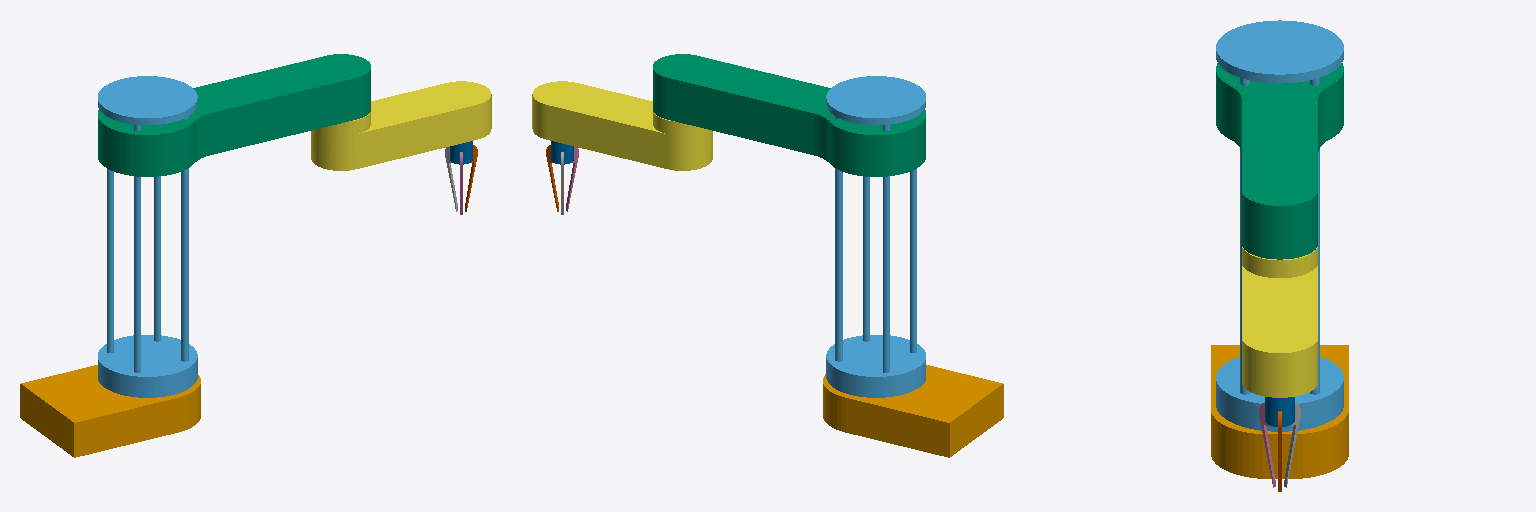
URDF robot description (bizon):
<?xml version="1.0" ?>
<!-- =================================================================================== -->
<!-- |    This document was autogenerated by xacro from src/bizon_description/urdf/bizon.urdf.xacro | -->
<!-- |    EDITING THIS FILE BY HAND IS NOT RECOMMENDED                                 | -->
<!-- =================================================================================== -->
<robot name="bizon">
  <!--xacro:include
    filename="$(find bizon_description)/urdf/bizon_mk1/bizon_system_interface.xacro" /-->
  <!--xacro:include filename="$(find bizon_description)/urdf/bizon_mk1/hand.xacro" /-->
  <link name="bizon2base_link">
    <visual>
      <origin rpy="1.57079632679 0.0 0.0" xyz="-0.150 0.070 0.0"/>
      <geometry>
        <mesh filename="package://bizon_description/meshes/base_link.stl" scale="0.001 0.001 0.001"/>
      </geometry>
    </visual>
    <collision>
      <origin rpy="1.57079632679 0.0 0.0" xyz="-0.150 0.070 0.0"/>
      <geometry>
        <mesh filename="package://bizon_description/meshes/base_link.stl" scale="0.001 0.001 0.001"/>
      </geometry>
    </collision>
    <inertial>
      <inertia ixx="0.00029" ixy="0.0" ixz="0.0" iyy="0.00029" iyz="0.0" izz="0.00052"/>
      <origin rpy="1.57079632679 0.0 0.0" xyz="-0.150 0.070 0.0"/>
      <mass value="1.00000"/>
    </inertial>
  </link>
  <link name="bizon2tower_link">
    <collision>
      <origin rpy="0.0 0.0 0.0" xyz="0.0 0.0 0.0"/>
      <geometry>
        <mesh filename="package://bizon_description/meshes/link1.stl" scale="0.001 0.001 0.001"/>
      </geometry>
    </collision>
    <inertial>
      <inertia ixx="0.02063" ixy="0.0" ixz="0.00004" iyy="0.02063" iyz="0.00001" izz="0.00118"/>
      <origin rpy="0.0 0.0 0.0" xyz="0.0 0.0 0.0"/>
      <mass value="1.00000"/>
    </inertial>
    <visual>
      <origin rpy="0.0 0.0 0.0" xyz="0.0 0.0 0.0"/>
      <geometry>
        <mesh filename="package://bizon_description/meshes/link1.stl" scale="0.001 0.001 0.001"/>
      </geometry>
    </visual>
  </link>
  <link name="bizon2arm1_link">
    <collision>
      <origin rpy="1.57079632679 0 1.57079632679" xyz="-0.060 -0.060 0.0"/>
      <geometry>
        <mesh filename="package://bizon_description/meshes/link2.stl" scale="0.001 0.001 0.001"/>
      </geometry>
    </collision>
    <inertial>
      <inertia ixx="0.00135" ixy="-0.00209" ixz="0.00002" iyy="0.00767" iyz="0.00001" izz="0.00877"/>
      <origin rpy="1.57079632679 0 1.57079632679" xyz="-0.060 -0.060 0.0"/>
      <mass value="1.00000"/>
    </inertial>
    <visual>
      <origin rpy="1.57079632679 0 1.57079632679" xyz="-0.060 -0.060 0.0"/>
      <geometry>
        <mesh filename="package://bizon_description/meshes/link2.stl" scale="0.001 0.001 0.001"/>
      </geometry>
    </visual>
  </link>
  <link name="bizon2arm2_link">
    <collision>
      <origin rpy="-1.57079632679 0.0 0.0" xyz="0.0 0.0 0.0"/>
      <geometry>
        <mesh filename="package://bizon_description/meshes/link3.stl" scale="0.001 0.001 0.001"/>
      </geometry>
    </collision>
    <inertial>
      <inertia ixx="0.00135" ixy="-0.00209" ixz="0.00002" iyy="0.00767" iyz="0.00001" izz="0.00877"/>
      <origin rpy="-1.57079632679 0.0 0.0" xyz="0.0 0.0 0.0"/>
      <mass value="1.00000"/>
    </inertial>
    <visual>
      <origin rpy="-1.57079632679 0.0 0.0" xyz="0.0 0.0 0.0"/>
      <geometry>
        <mesh filename="package://bizon_description/meshes/link3.stl" scale="0.001 0.001 0.001"/>
      </geometry>
    </visual>
  </link>
  <link name="bizon2gripper_base_link">
    <visual>
      <origin rpy="0 0.0 0.0" xyz="0.0 0.0 0.0"/>
      <geometry>
        <mesh filename="package://bizon_description/meshes/gripper_base.stl" scale="0.001 0.001 0.001"/>
      </geometry>
    </visual>
    <collision>
      <origin rpy="0 0.0 0.0" xyz="0.0 0.0 0.0"/>
      <geometry>
        <mesh filename="package://bizon_description/meshes/gripper_base.stl" scale="0.001 0.001 0.001"/>
      </geometry>
    </collision>
    <inertial>
      <inertia ixx="0.0001" ixy="0.0" ixz="0.0" iyy="0.0001" iyz="0.0" izz="0.0001"/>
      <origin rpy="0 0.0 0.0" xyz="0.0 0.0 0.0"/>
      <mass value="1.000"/>
    </inertial>
  </link>
  <link name="bizon2gripper_finger1_link">
    <visual>
      <origin rpy="0.0 0.0 0.0" xyz="0.0 0.0 0.0"/>
      <geometry>
        <mesh filename="package://bizon_description/meshes/gripper_finger_v2.stl" scale="0.001 0.0015 0.001"/>
      </geometry>
    </visual>
    <collision>
      <origin rpy="0.0 0.0 0.0" xyz="0.0 0.0 0.0"/>
      <geometry>
        <mesh filename="package://bizon_description/meshes/gripper_finger_v2.stl" scale="0.001 0.0015 0.001"/>
      </geometry>
    </collision>
    <inertial>
      <inertia ixx="0.00001" ixy="0.0" ixz="0.0" iyy="0.00001" iyz="0.0" izz="0.00001"/>
      <origin rpy="0.0 0.0 0.0" xyz="0.0 0.0 0.0"/>
      <mass value="0.100"/>
    </inertial>
  </link>
  <link name="bizon2gripper_finger2_link">
    <visual>
      <origin rpy="0.0 0.0 0.0" xyz="0.0 0.0 0.0"/>
      <geometry>
        <mesh filename="package://bizon_description/meshes/gripper_finger_v2.stl" scale="0.001 0.0015 0.001"/>
      </geometry>
    </visual>
    <collision>
      <origin rpy="0.0 0.0 0.0" xyz="0.0 0.0 0.0"/>
      <geometry>
        <mesh filename="package://bizon_description/meshes/gripper_finger_v2.stl" scale="0.001 0.0015 0.001"/>
      </geometry>
    </collision>
    <inertial>
      <inertia ixx="0.00001" ixy="0.0" ixz="0.0" iyy="0.00001" iyz="0.0" izz="0.00001"/>
      <origin rpy="0.0 0.0 0.0" xyz="0.0 0.0 0.0"/>
      <mass value="0.100"/>
    </inertial>
  </link>
  <link name="bizon2gripper_finger3_link">
    <visual>
      <origin rpy="0.0 0.0 0.0" xyz="0.0 0.0 0.0"/>
      <geometry>
        <mesh filename="package://bizon_description/meshes/gripper_finger_v2.stl" scale="0.001 0.0015 0.001"/>
      </geometry>
    </visual>
    <collision>
      <origin rpy="0.0 0.0 0.0" xyz="0.0 0.0 0.0"/>
      <geometry>
        <mesh filename="package://bizon_description/meshes/gripper_finger_v2.stl" scale="0.001 0.0015 0.001"/>
      </geometry>
    </collision>
    <inertial>
      <inertia ixx="0.00001" ixy="0.0" ixz="0.0" iyy="0.00001" iyz="0.0" izz="0.00001"/>
      <origin rpy="0.0 0.0 0.0" xyz="0.0 0.0 0.0"/>
      <mass value="0.100"/>
    </inertial>
  </link>
  <joint name="bizon2rev1" type="revolute">
    <limit effort="0.0" lower="-3.14" upper="3.14" velocity="12.56"/>
    <origin rpy="0.0 0.0 0.0" xyz="0.0 0.0 0.045"/>
    <parent link="bizon2base_link"/>
    <child link="bizon2tower_link"/>
    <axis xyz="0.0 0.0 1.00000"/>
  </joint>
  <joint name="bizon2pris1" type="prismatic">
    <limit effort="100.0" lower="0.0" upper="0.28" velocity="0.5"/>
    <origin rpy="0.0 0.0 0.0" xyz="0 0 0.38"/>
    <parent link="bizon2tower_link"/>
    <child link="bizon2arm1_link"/>
    <axis xyz="0.0 0.0 -1.0"/>
  </joint>
  <joint name="bizon2rev2" type="revolute">
    <limit effort="0.0" lower="-3.14" upper="3.14" velocity="12.56"/>
    <origin rpy="0.0 0.0 0.0" xyz="0.29 0 -0.135"/>
    <parent link="bizon2arm1_link"/>
    <child link="bizon2arm2_link"/>
    <axis xyz="0.0 0.0 1.0"/>
  </joint>
  <joint name="bizon2rev3" type="revolute">
    <limit effort="0.0" lower="-3.14" upper="3.14" velocity="12.56"/>
    <origin rpy="3.1415 0.0 0.0" xyz="0.18 0.0 0.0"/>
    <parent link="bizon2arm2_link"/>
    <child link="bizon2gripper_base_link"/>
    <axis xyz="0.0 0.0 1.0"/>
  </joint>
  <joint name="bizon2gripper_finger1_joint" type="revolute">
    <limit effort="5.0" lower="-0.06" upper="0.41" velocity="12.56"/>
    <origin rpy="-1.57079632679 3.14159265359 0.0" xyz="0.015 0.0 0.035"/>
    <parent link="bizon2gripper_base_link"/>
    <child link="bizon2gripper_finger1_link"/>
    <axis xyz="0.0 0.0 1.0"/>
  </joint>
  <joint name="bizon2gripper_finger2_joint" type="revolute">
    <limit effort="5.0" lower="-0.06" upper="0.41" velocity="12.56"/>
    <origin rpy="-1.57079632679 -3.14159265359 2.09439510238" xyz="-0.0075 0.01299038105 0.035"/>
    <parent link="bizon2gripper_base_link"/>
    <child link="bizon2gripper_finger2_link"/>
    <axis xyz="0.0 0.0 1.0"/>
  </joint>
  <joint name="bizon2gripper_finger3_joint" type="revolute">
    <limit effort="5.0" lower="-0.06" upper="0.41" velocity="12.56"/>
    <origin rpy="-1.57079632679 -3.14159265359 -2.09439510238" xyz="-0.0075 -0.01299038105 0.035"/>
    <parent link="bizon2gripper_base_link"/>
    <child link="bizon2gripper_finger3_link"/>
    <axis xyz="0.0 0.0 1.0"/>
  </joint>
  
</robot>

--- Facts derived from the render (not from the file) ---
Views: 3 orthographic renders of the robot side by side, from view 1: azimuth 30°, elevation 25°; view 2: azimuth 150°, elevation 25°; view 3: azimuth 270°, elevation 25°.
Robot: bizon — 8 links, 7 joints (6 revolute, 1 prismatic); root link bizon2base_link; default pose: every joint at zero.
Visible links, largest first — view 1: bizon2arm1_link, bizon2tower_link, bizon2arm2_link, bizon2base_link; view 2: bizon2arm1_link, bizon2tower_link, bizon2arm2_link, bizon2base_link; view 3: bizon2arm1_link, bizon2tower_link, bizon2arm2_link, bizon2base_link, bizon2gripper_base_link.
Link boxes in pixels (x1,y1,x2,y2): bizon2arm1_link: (98,54,370,176); bizon2tower_link: (98,76,197,397); bizon2arm2_link: (311,81,491,170); bizon2base_link: (20,365,200,457); bizon2arm1_link: (653,54,925,176); bizon2tower_link: (826,76,925,397); bizon2arm2_link: (532,81,712,170); bizon2base_link: (823,365,1003,457); bizon2arm1_link: (1216,63,1343,259); bizon2tower_link: (1216,20,1343,431); bizon2arm2_link: (1242,247,1317,397); bizon2base_link: (1211,345,1348,478); bizon2gripper_base_link: (1265,397,1294,426).
Bounding box of the posed robot: 0.659 × 0.14 × 0.453 m (x, y, z).
8 mesh visuals loaded from 6 distinct referenced files (6 binary STL).
